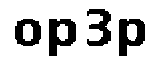3: (84, 6, 111, 49)
o: (12, 17, 43, 48)
p: (117, 15, 149, 60), (46, 17, 76, 60)
